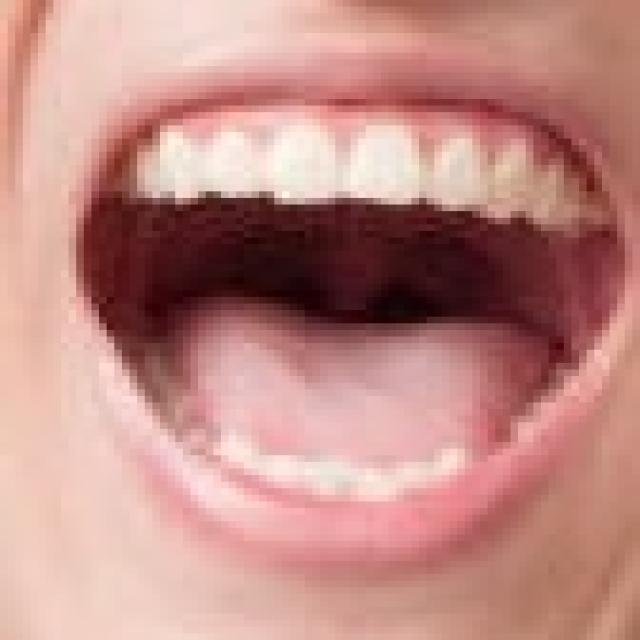open-mouth: (68, 79, 632, 561)
